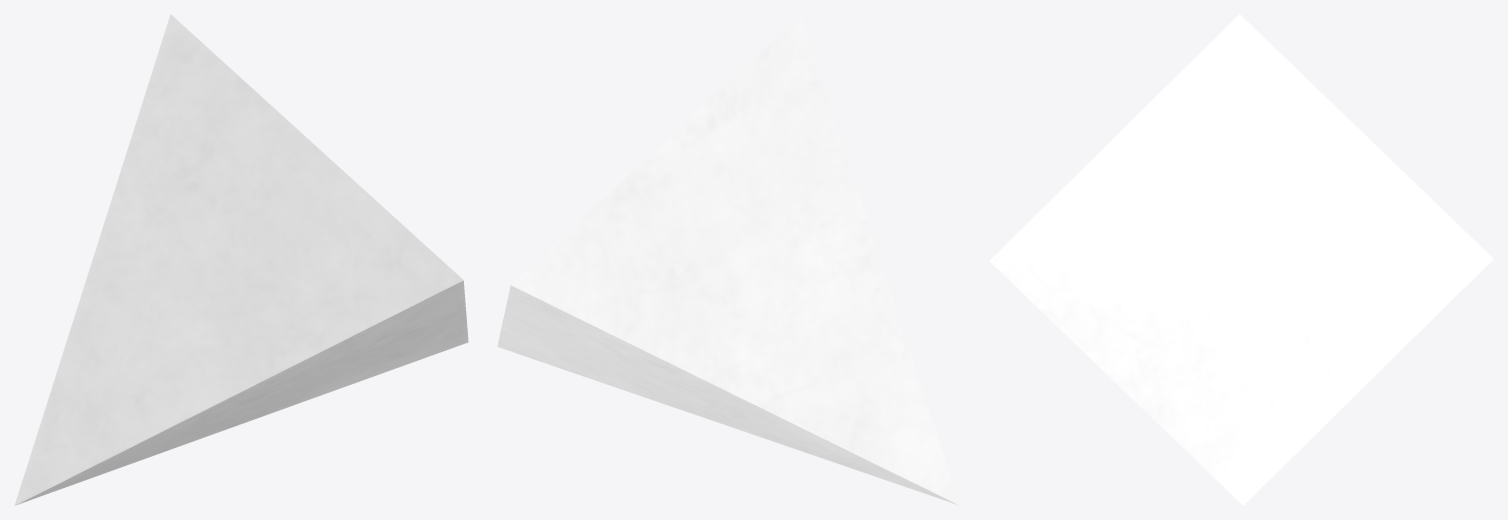
File: tri_L.gltf
3 views of the same model, side by side, from view 1: azimuth 30°, elevation 25°; view 2: azimuth 150°, elevation 25°; view 3: azimuth 270°, elevation 25° (orthographic). The views are drawn at different scales.
Visible parts, largest first — view 1: Cone.002; view 2: Cone.002; view 3: Cone.002.
Boxes of the visible parts, x1,y1,x2,y2 form: Cone.002: [14, 14, 468, 505]; Cone.002: [497, 14, 960, 505]; Cone.002: [989, 14, 1493, 505].
Size of the model in its own units: 1.16 by 1.09 by 1.23.
1 material, 1 textured.
